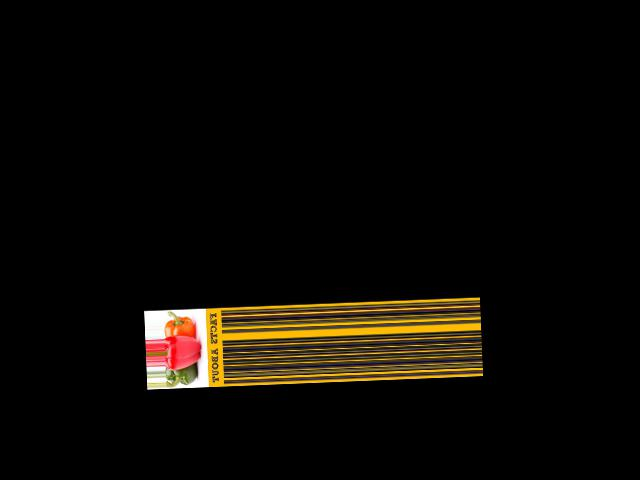bell_pepper: (165, 366, 203, 387)
